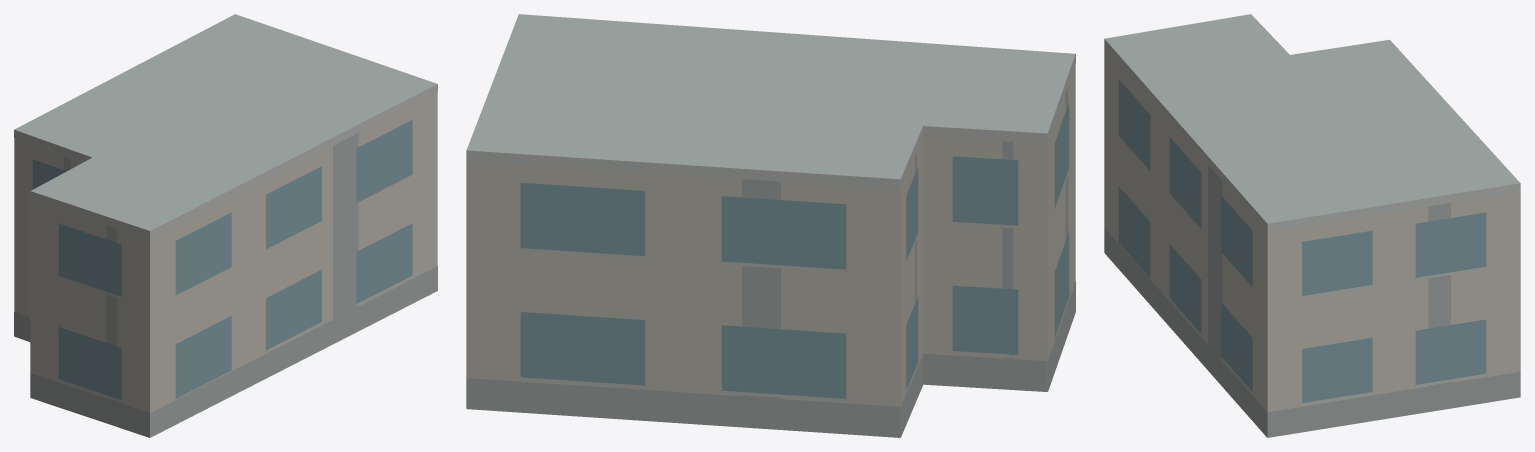
The model's file is survey-upis-32824796.glb.
3 renders of one model, left to right at view 1: azimuth 30°, elevation 25°; view 2: azimuth 150°, elevation 25°; view 3: azimuth 270°, elevation 25°, orthographic. The views are drawn at different scales.
Visible parts, largest first — view 1: survey-upis-32824796.tmp; view 2: survey-upis-32824796.tmp; view 3: survey-upis-32824796.tmp.
Part boxes in pixels (bbox=[...]): survey-upis-32824796.tmp: bbox=[14, 14, 437, 437]; survey-upis-32824796.tmp: bbox=[466, 14, 1075, 437]; survey-upis-32824796.tmp: bbox=[1104, 14, 1520, 437].
Size of the model in its own units: 12.83 by 6.1 by 10.76.
